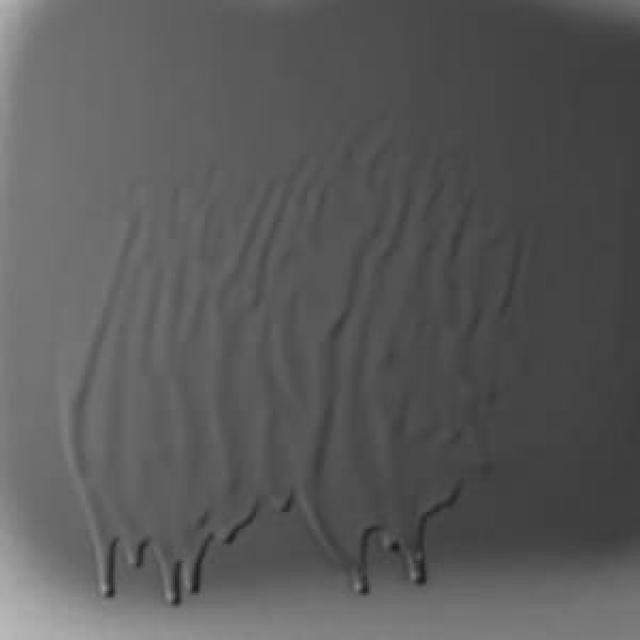paint drips: (234, 412, 448, 604), (70, 437, 260, 610), (388, 342, 556, 510)
